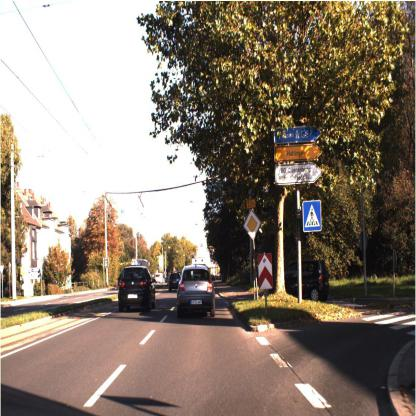mandatory: (300, 194, 324, 237)
other: (240, 210, 263, 240)
